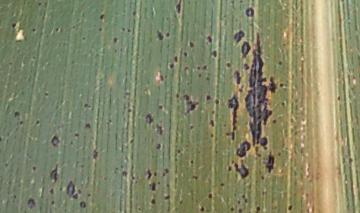tarspot: (244, 30, 275, 146), (224, 93, 240, 140), (182, 93, 200, 118), (231, 159, 250, 179), (65, 179, 82, 201), (236, 139, 252, 159), (47, 163, 59, 183), (265, 150, 275, 173), (241, 40, 251, 59), (233, 29, 246, 43), (233, 69, 241, 87), (50, 135, 61, 148), (26, 196, 36, 210), (253, 145, 263, 159), (174, 1, 183, 15), (143, 112, 154, 123), (244, 6, 254, 18), (155, 28, 164, 41), (207, 118, 217, 129), (154, 122, 163, 134), (148, 181, 157, 193), (145, 166, 152, 180), (91, 148, 99, 160), (78, 199, 87, 209), (240, 191, 248, 202), (209, 49, 217, 59), (155, 141, 163, 151), (157, 73, 165, 83), (162, 167, 170, 177), (242, 62, 251, 70), (204, 93, 212, 102), (13, 110, 21, 119), (98, 13, 106, 22), (83, 102, 92, 110), (152, 169, 159, 179), (254, 205, 262, 213), (277, 81, 285, 89), (17, 119, 25, 127), (80, 34, 88, 42), (167, 62, 175, 70), (84, 122, 92, 130), (196, 71, 204, 79), (120, 169, 128, 177), (188, 123, 196, 131), (199, 204, 206, 213), (335, 93, 342, 102), (206, 35, 213, 44), (188, 39, 195, 48), (157, 102, 164, 111), (204, 74, 211, 83), (53, 26, 60, 35), (347, 156, 354, 165), (287, 204, 294, 212), (149, 197, 156, 205), (164, 31, 171, 39), (10, 21, 17, 29), (172, 55, 179, 63), (279, 100, 287, 107), (226, 164, 233, 172), (73, 131, 81, 138), (49, 198, 56, 206), (162, 194, 170, 201), (174, 91, 181, 99), (218, 180, 225, 188), (42, 91, 50, 98), (229, 205, 236, 213), (126, 107, 133, 115), (175, 147, 183, 154), (85, 191, 92, 199), (11, 193, 18, 201), (190, 174, 199, 180), (210, 107, 216, 116), (225, 61, 232, 68), (276, 59, 283, 66), (131, 9, 138, 16), (213, 97, 220, 104), (201, 63, 208, 70), (260, 174, 267, 181), (2, 161, 9, 168), (182, 50, 188, 58), (126, 27, 132, 35), (48, 187, 54, 195), (207, 192, 213, 200), (209, 131, 215, 139), (112, 36, 118, 43), (96, 26, 103, 32), (30, 27, 37, 33), (237, 207, 244, 213), (35, 118, 40, 126), (189, 158, 194, 166), (120, 25, 126, 31), (31, 165, 37, 171), (196, 64, 201, 71), (129, 137, 134, 144), (36, 2, 42, 7), (1, 135, 3, 144)
